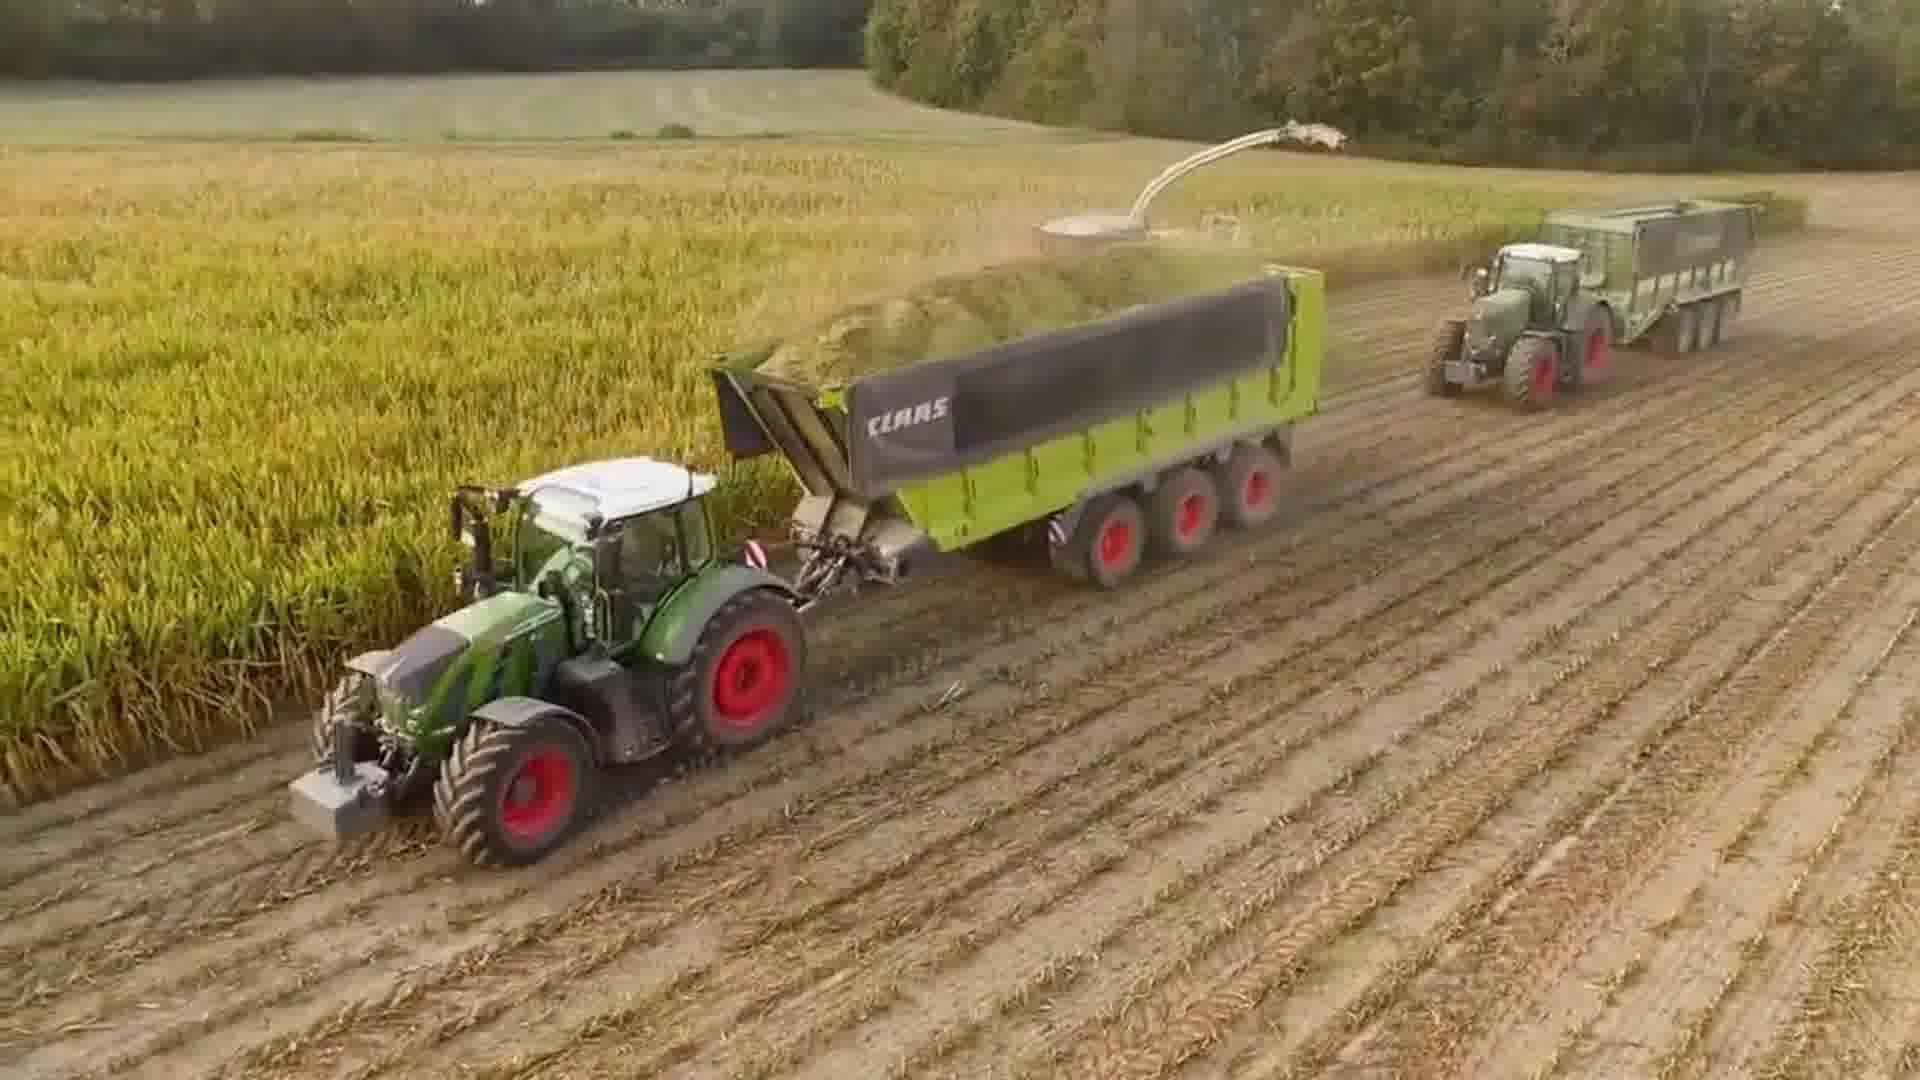combine harvester: (1026, 107, 1360, 263)
tractor: (284, 441, 816, 880), (1419, 237, 1621, 416)
trailer: (703, 231, 1329, 601), (1531, 191, 1764, 359)
